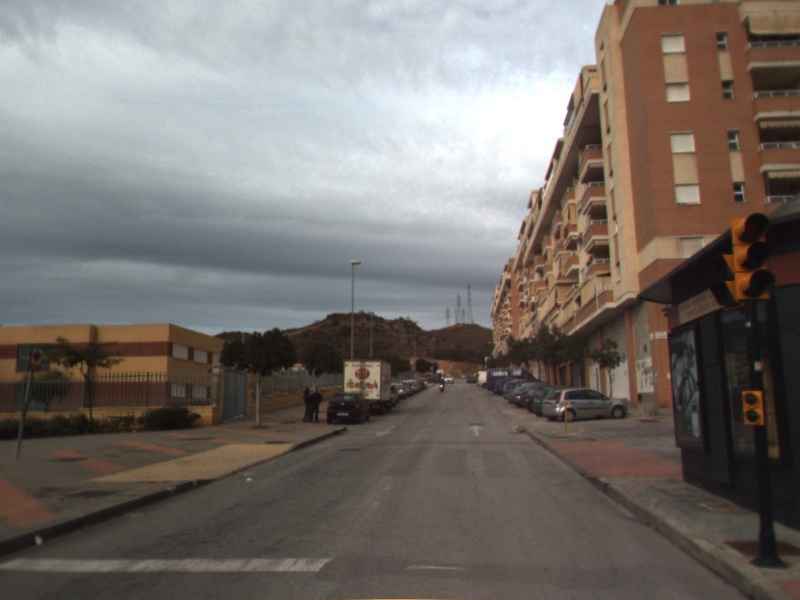STRAIGHT: (466, 422, 487, 438)
